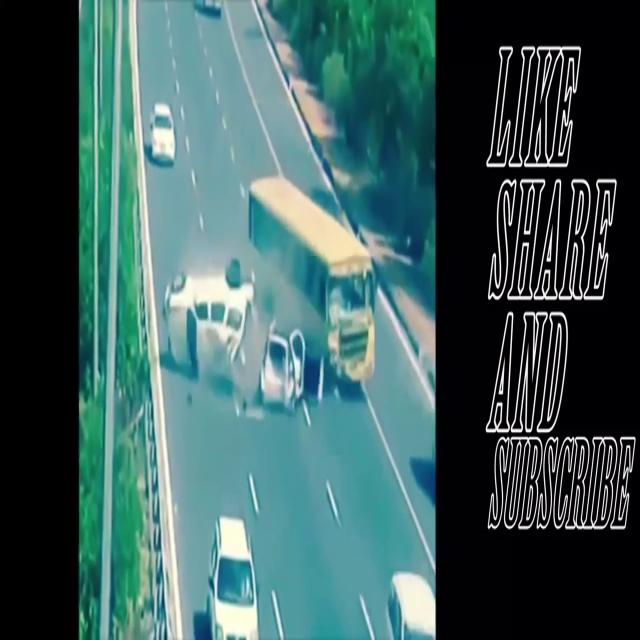accident: (161, 262, 259, 390)
